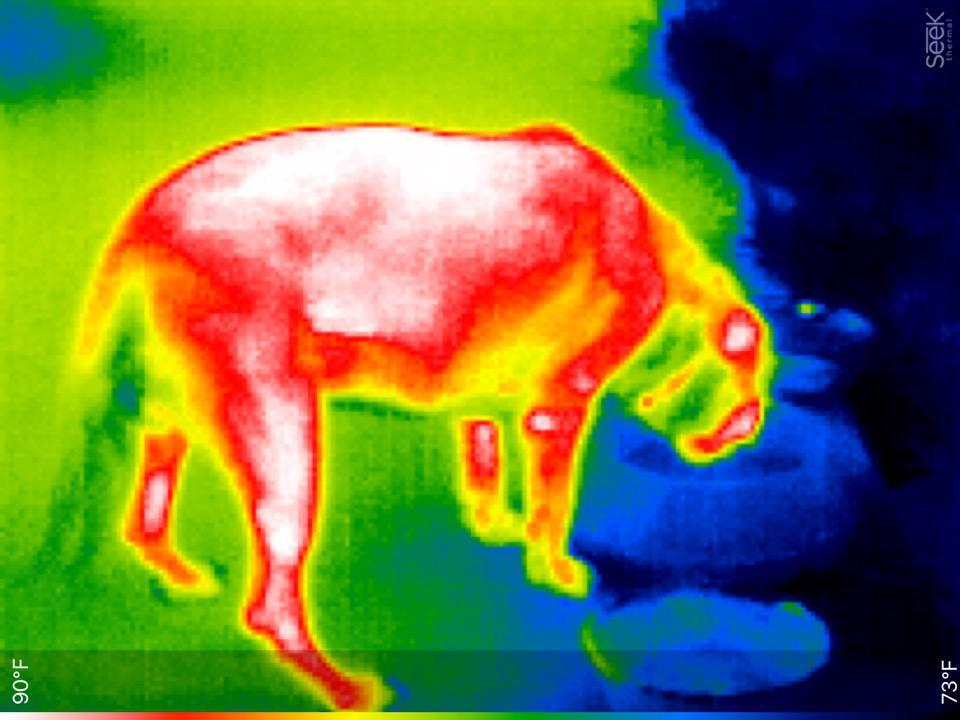dog: (62, 106, 785, 710)
